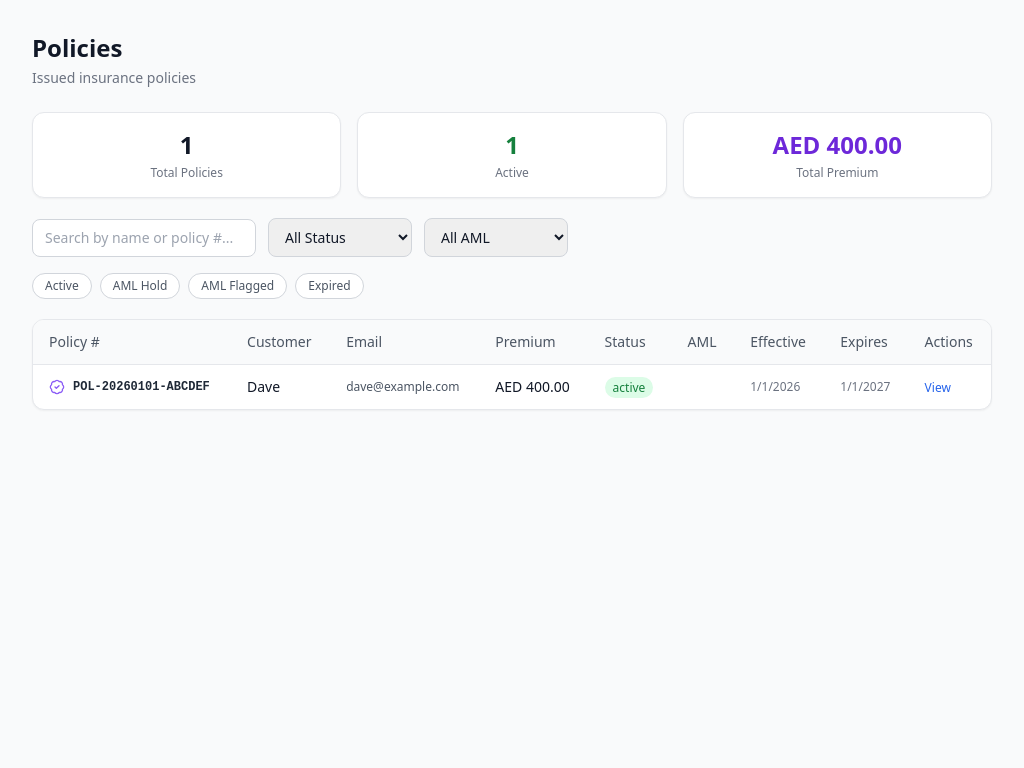
it: PoliciesPage › opens policy detail modal on view click
expect the text "POL-20260101-ABCDEF" is shown: met, box [73, 379, 210, 395]
Click the button "View" at (938, 388), box [925, 380, 951, 396]
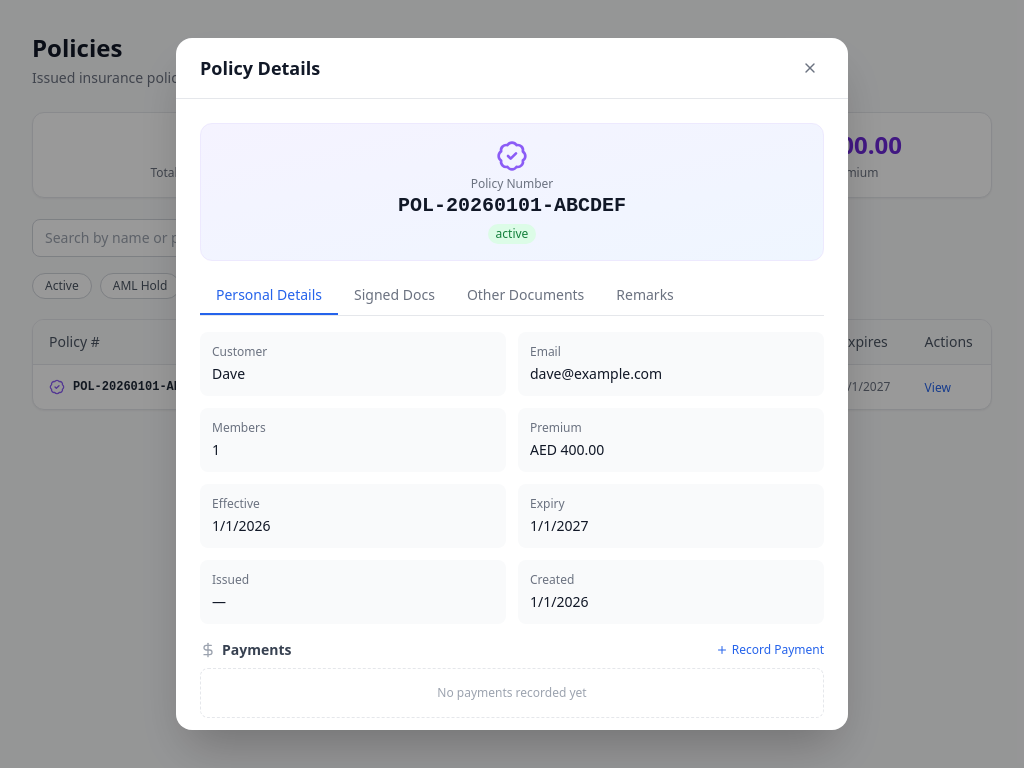
expect the heading "Policy Details" is shown: met, box [200, 54, 320, 82]
